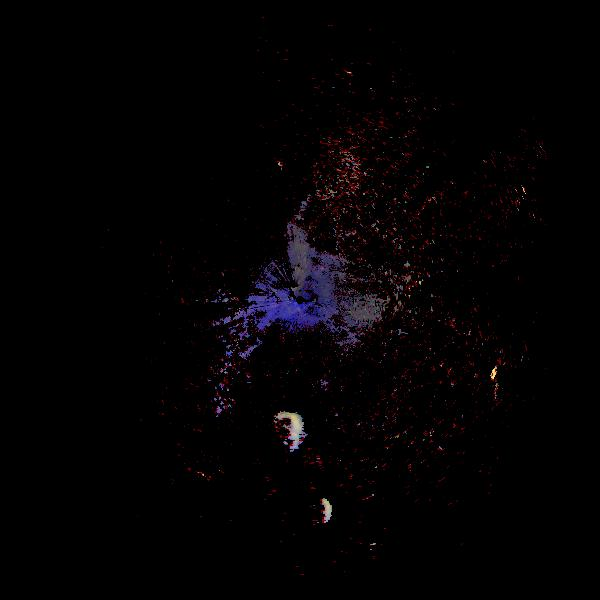roost: (267, 409, 309, 451), (295, 492, 337, 534)
